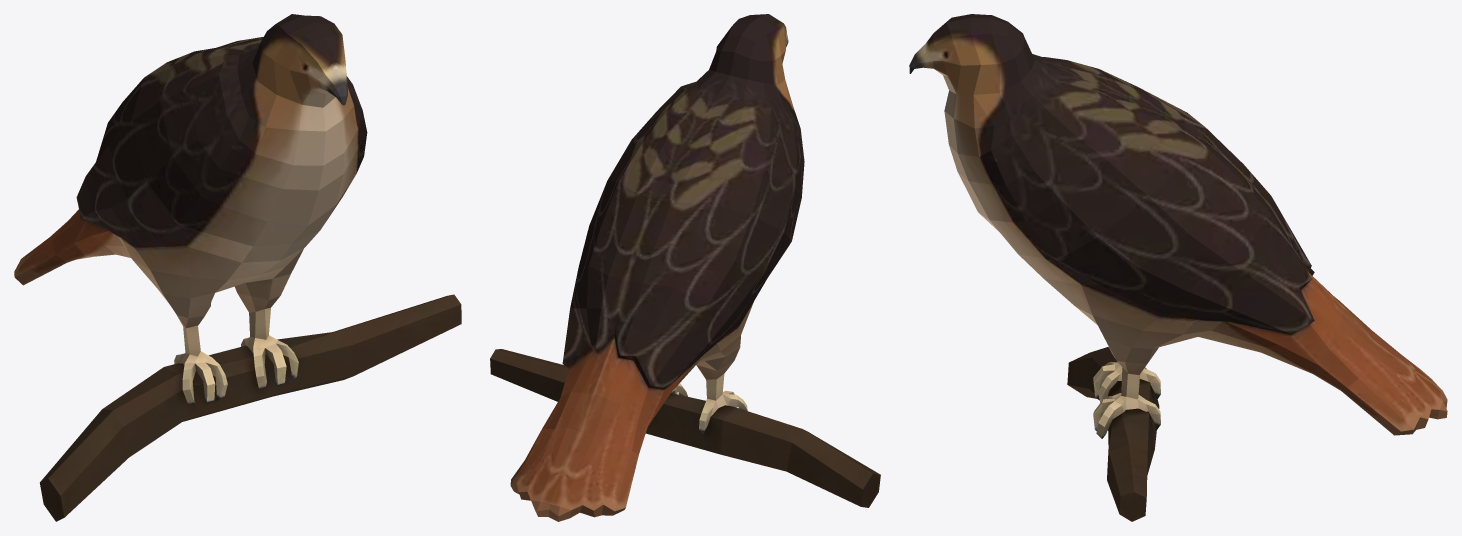
Rendered from animals-red-tailed-hawk-168.glb.
The picture shows the model from 3 angles, left to right: view 1: azimuth 30°, elevation 25°; view 2: azimuth 150°, elevation 25°; view 3: azimuth 270°, elevation 25°; orthographic projection. The views are drawn at different scales.
Visible parts, largest first — view 1: RedTailedHawk_Mesh; view 2: RedTailedHawk_Mesh; view 3: RedTailedHawk_Mesh.
Part boxes in pixels (x1,y1,x2,y2): RedTailedHawk_Mesh: (14,14,461,521); RedTailedHawk_Mesh: (490,14,880,521); RedTailedHawk_Mesh: (909,14,1447,521).
Size of the model in its own units: 3.27 by 3.62 by 3.76.
1 material, 1 textured.
